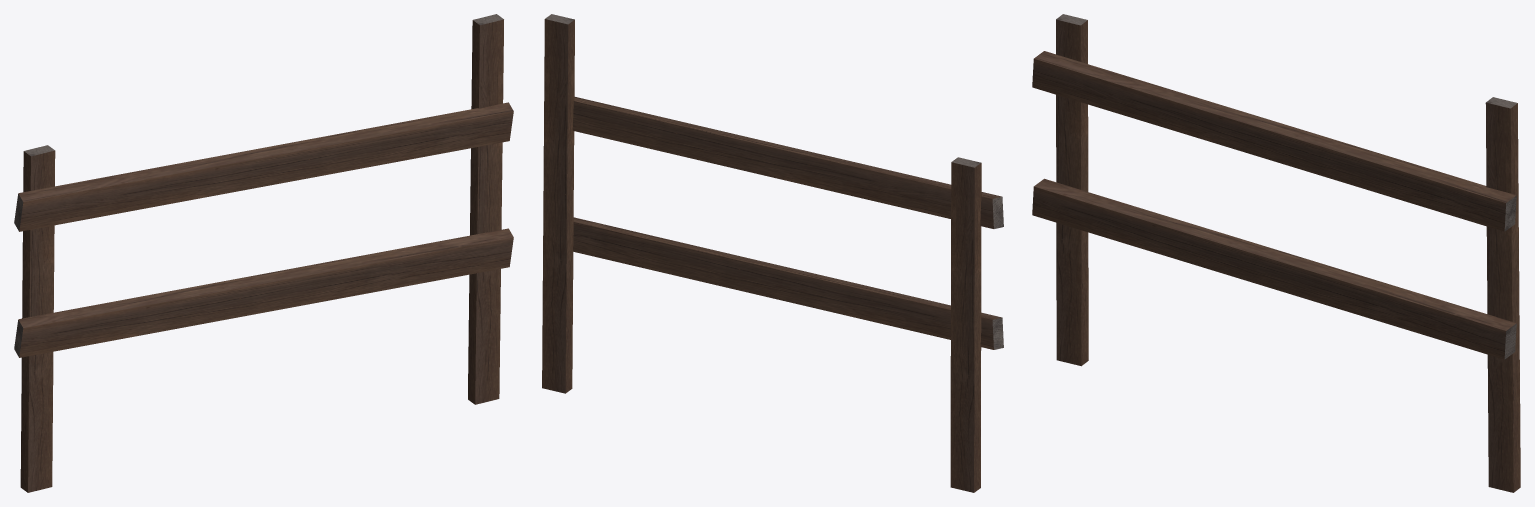
The model's file is jov_rice_rag02a.fbx.
3 renders of one model, left to right at view 1: azimuth 30°, elevation 25°; view 2: azimuth 150°, elevation 25°; view 3: azimuth 330°, elevation 25°, orthographic. The views are drawn at different scales.
Parts seen in each view (by area): view 1: jov_rice_rag02a; view 2: jov_rice_rag02a; view 3: jov_rice_rag02a.
Part boxes in pixels (left/top/right/bottom): jov_rice_rag02a: left=14, top=14, right=513, bottom=492; jov_rice_rag02a: left=542, top=14, right=1003, bottom=492; jov_rice_rag02a: left=1032, top=14, right=1520, bottom=492.
Size of the model in its own units: 213 by 161 by 21.88.
